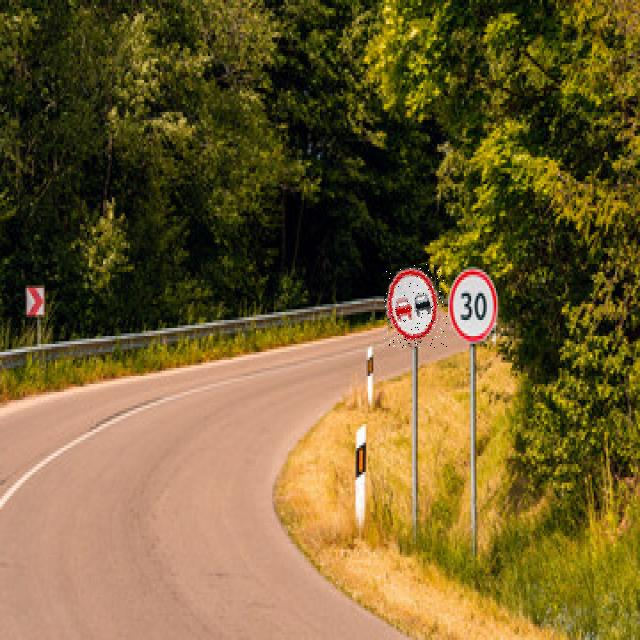no overtaking: (384, 264, 447, 348)
